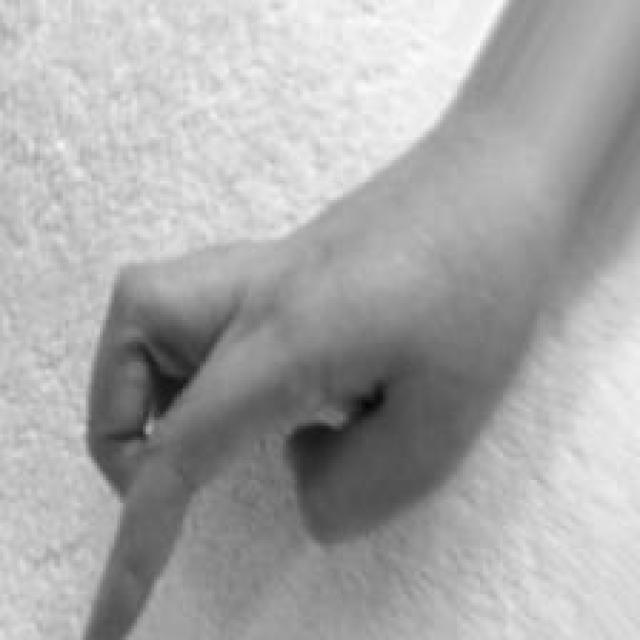P: (62, 208, 547, 640)
